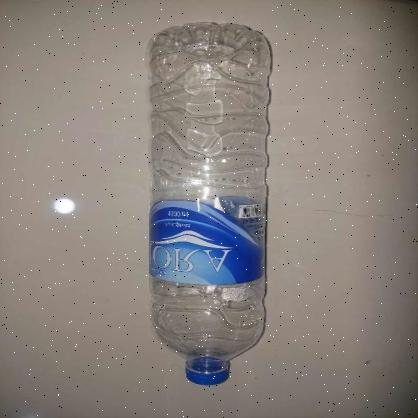bottle: (150, 21, 273, 385)
cap: (185, 362, 233, 384)
label: (150, 194, 268, 284)
